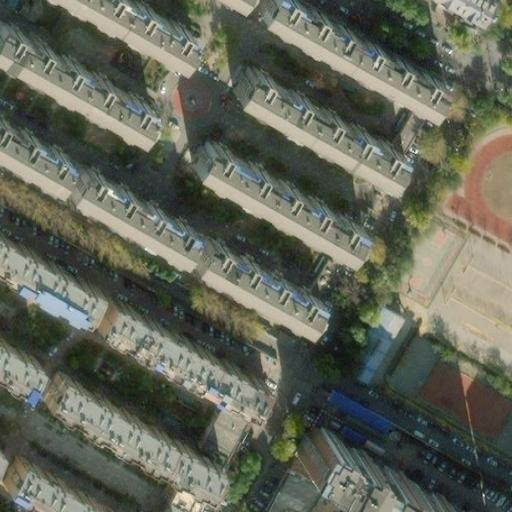building: (47, 374, 226, 496), (227, 57, 402, 176), (101, 297, 272, 414), (186, 133, 354, 247), (0, 14, 148, 129), (294, 424, 466, 512), (182, 225, 317, 321), (63, 159, 188, 249), (281, 402, 377, 500), (0, 230, 93, 313), (81, 0, 190, 54), (10, 461, 112, 512), (331, 300, 393, 378), (384, 332, 445, 402), (0, 114, 65, 179), (201, 400, 255, 467), (325, 387, 395, 436), (254, 466, 318, 512), (383, 91, 424, 146), (0, 340, 33, 387), (167, 481, 209, 512)
